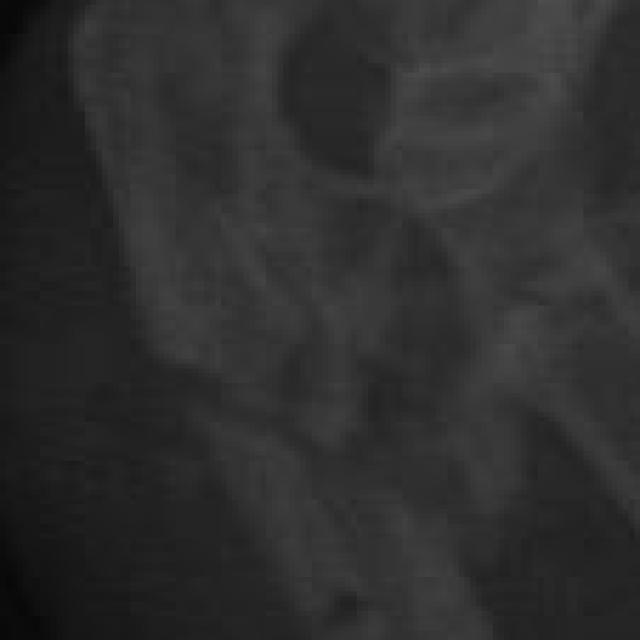fracture: (2, 2, 640, 640)
